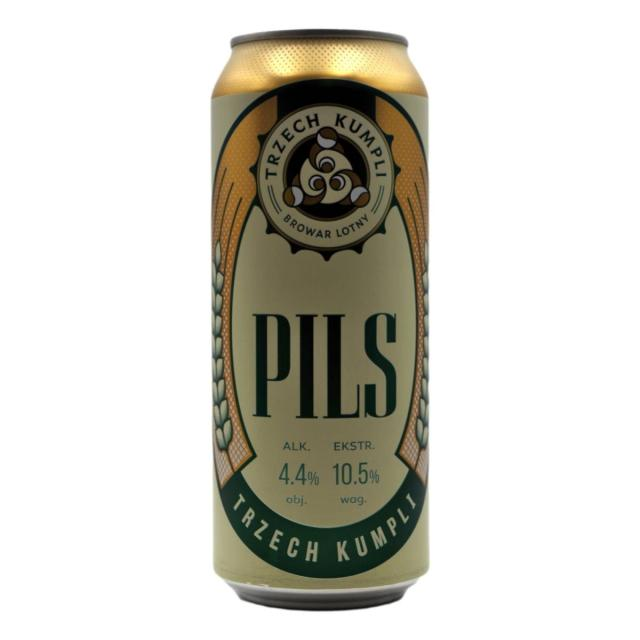metal: (211, 29, 430, 610), (211, 78, 429, 590)
